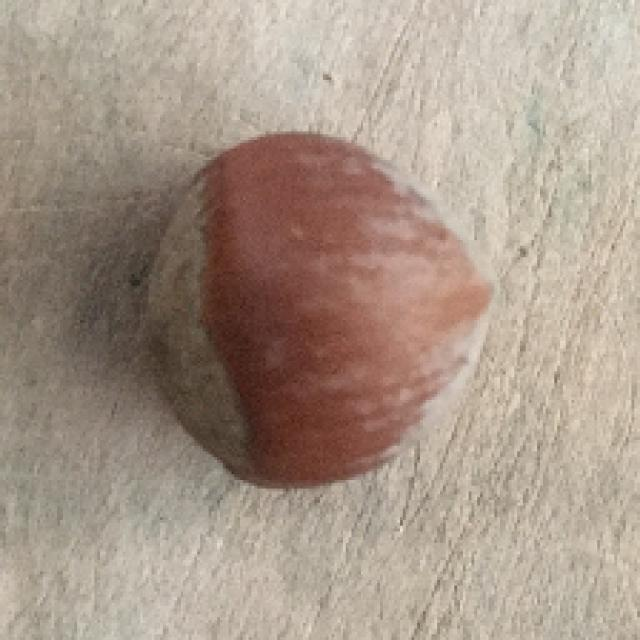qualityHazelnut: (136, 134, 495, 494)
